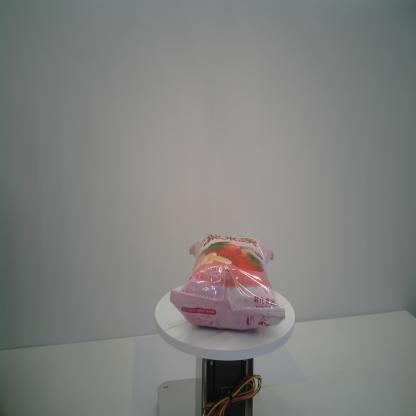Puffed Food: (169, 233, 286, 332)
